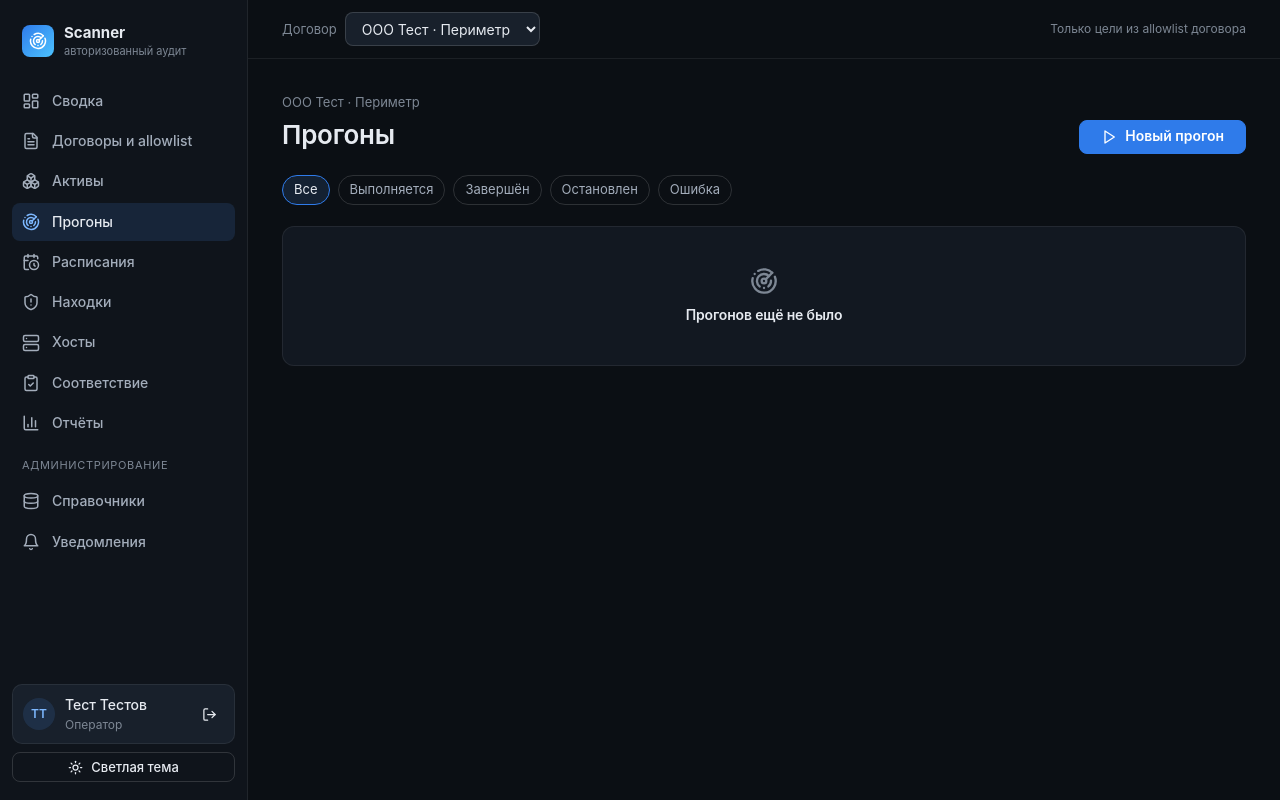
модуль cred_audit в форме запуска › скрыт без права cred_audit
Click the button "Новый прогон": (1163,136) [1079, 120, 1246, 154]
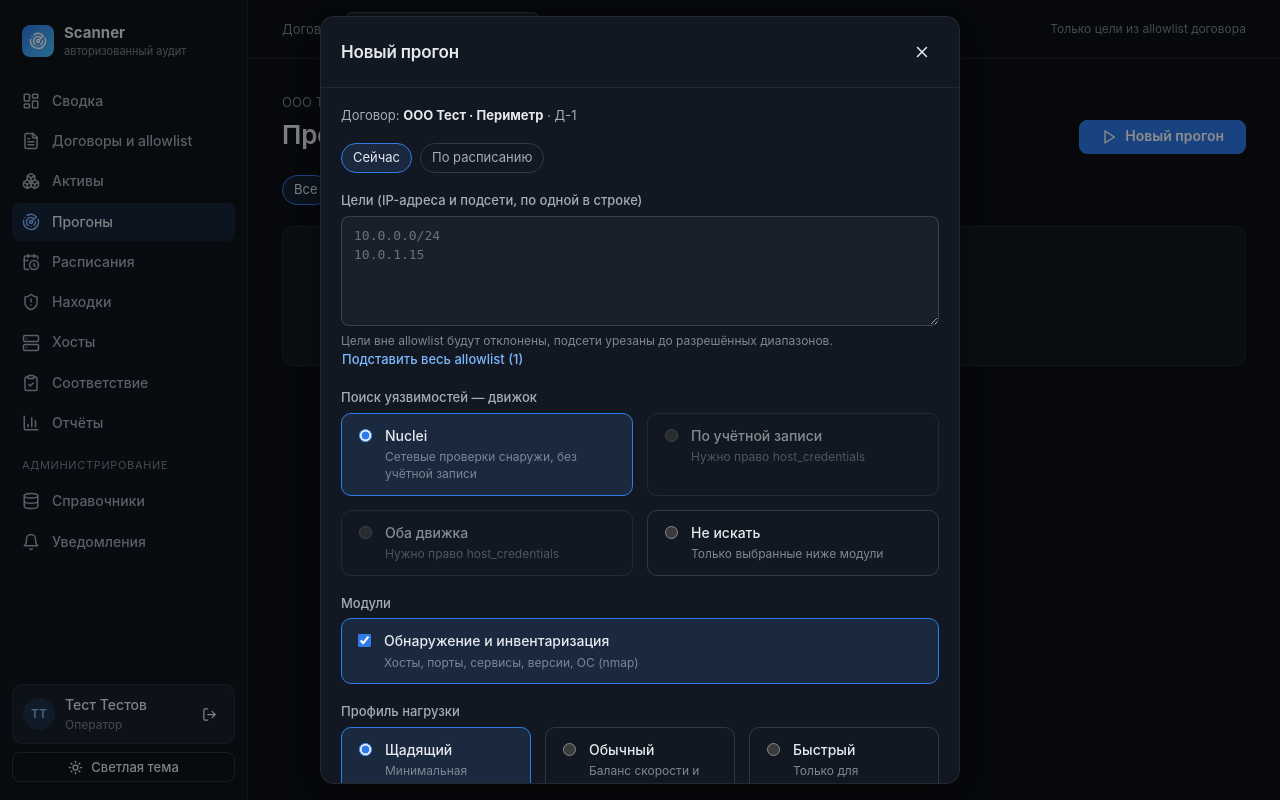
Result: the text "Поиск уязвимостей — движок" is shown at [341, 389, 537, 405]
